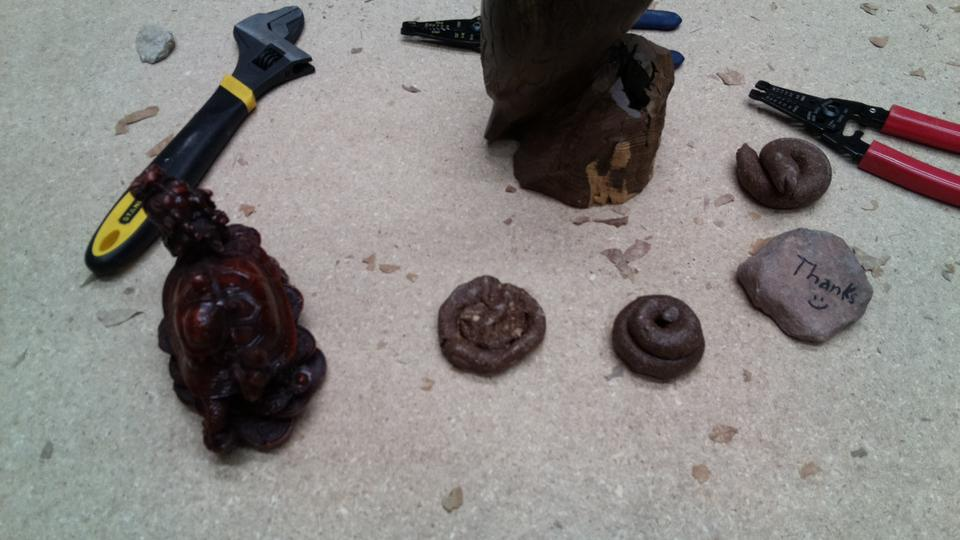poop: (434, 273, 551, 381), (610, 290, 708, 385), (732, 133, 834, 214)
